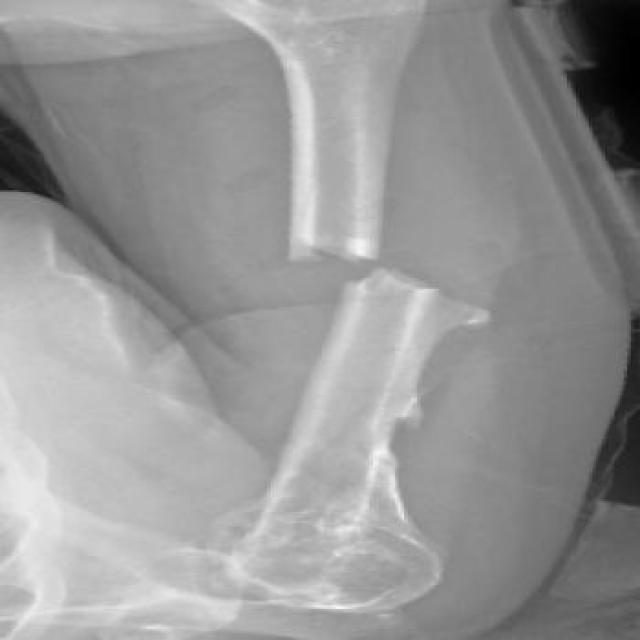Fracture: (273, 229, 507, 340)
